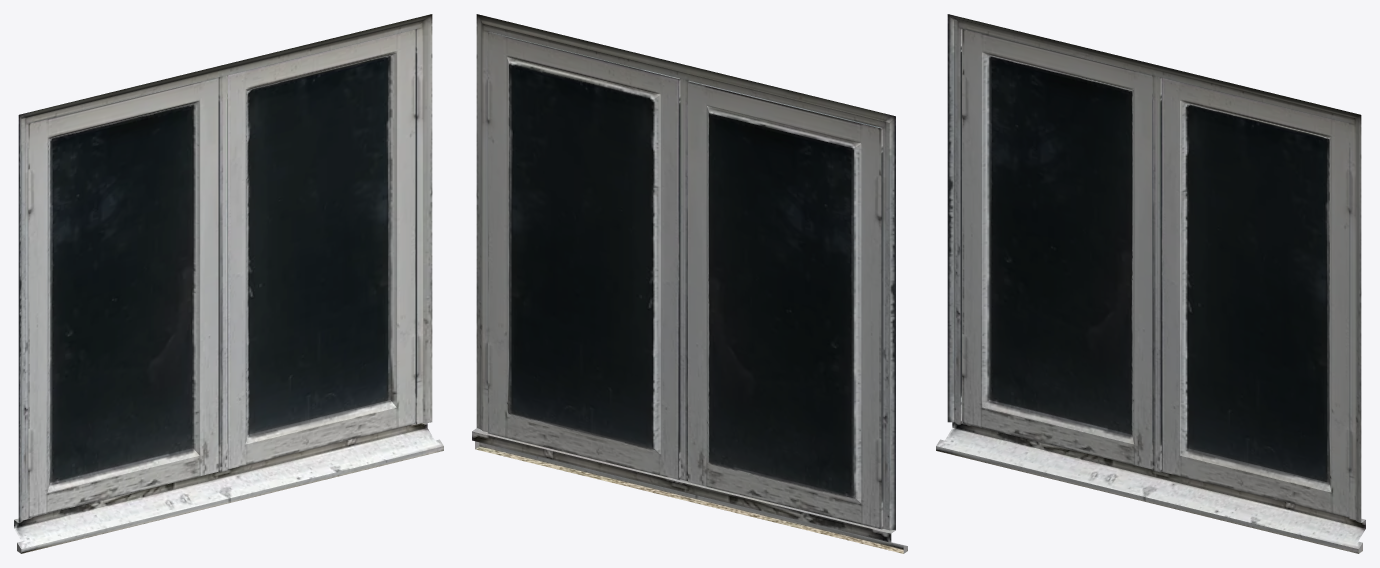
The model's file is window.glb.
3 renders of one model, left to right at view 1: azimuth 30°, elevation 25°; view 2: azimuth 150°, elevation 25°; view 3: azimuth 330°, elevation 25°, orthographic.
Visible parts, largest first — view 1: WINDOW3; view 2: WINDOW3; view 3: WINDOW3.
Boxes of the visible parts, box(x1,y1,x2,y2) form: WINDOW3: box(14, 14, 443, 553); WINDOW3: box(472, 14, 907, 553); WINDOW3: box(936, 14, 1365, 553).
Size of the model in its own units: 1.28 by 1.25 by 0.0632.
1 material, 1 textured.
